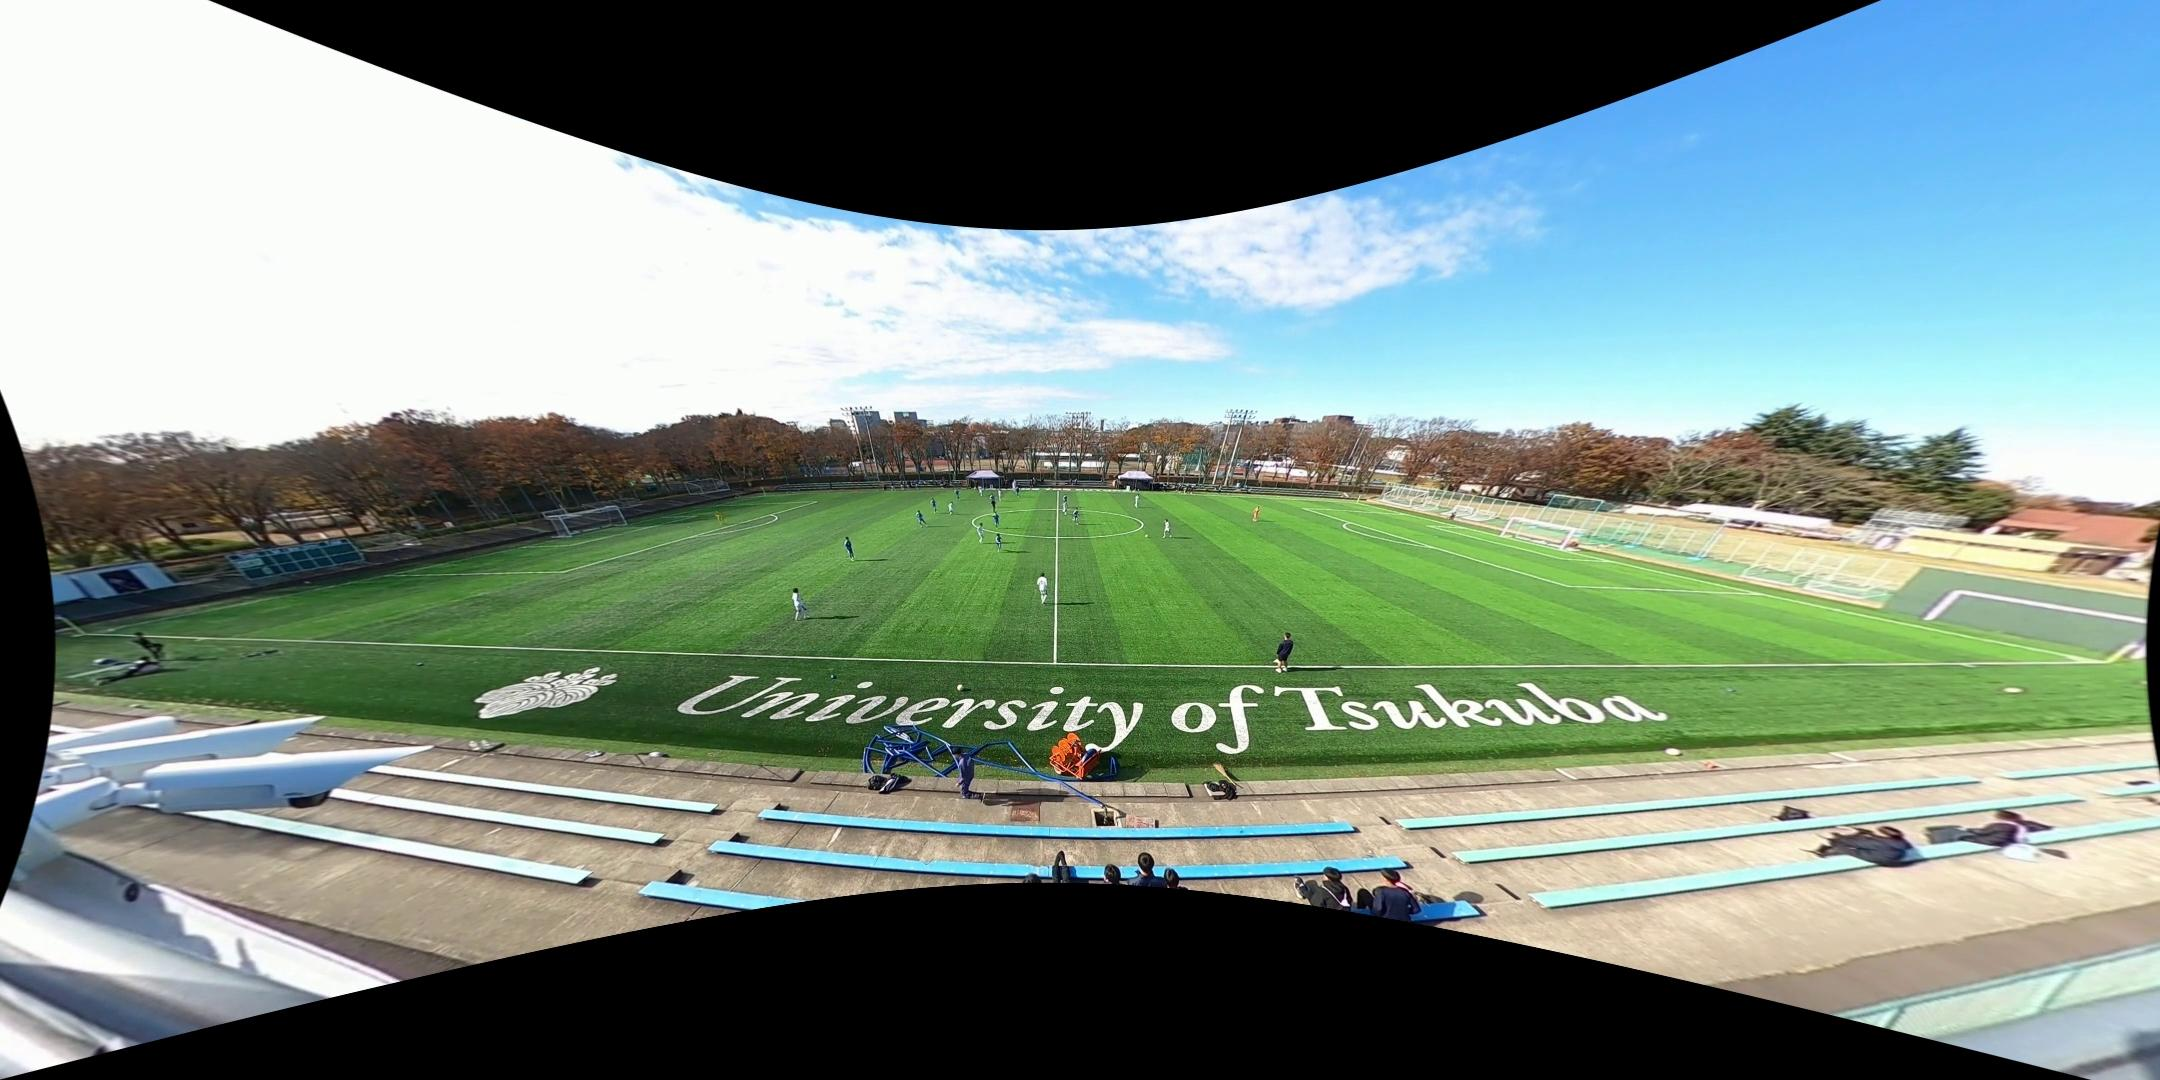person: (1274, 632, 1294, 672), (791, 587, 811, 621), (1036, 572, 1050, 605), (844, 536, 856, 562), (915, 510, 928, 527), (715, 509, 727, 526), (1162, 519, 1172, 539), (976, 522, 985, 543), (994, 533, 1003, 552), (928, 498, 939, 513), (1072, 507, 1081, 525), (1252, 506, 1261, 522), (992, 513, 1001, 529), (989, 493, 997, 509), (947, 501, 955, 515), (1062, 501, 1069, 516), (1062, 494, 1069, 509), (1134, 494, 1141, 508), (953, 489, 961, 501), (991, 500, 998, 513), (1015, 485, 1021, 498), (997, 489, 1003, 501), (978, 485, 984, 497), (1012, 480, 1017, 492)
sports ball: (2000, 683, 2027, 699), (1664, 744, 1684, 758), (956, 683, 968, 692), (1145, 533, 1150, 538)
